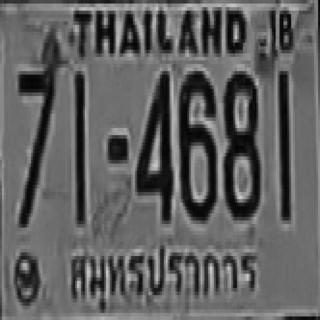N01: (276, 68, 290, 217), (73, 71, 85, 224), (73, 69, 83, 222)
N04: (135, 68, 172, 220)
N06: (177, 68, 214, 217)
N07: (17, 60, 56, 224)
N08: (222, 68, 258, 217)
P57: (66, 235, 262, 315)
